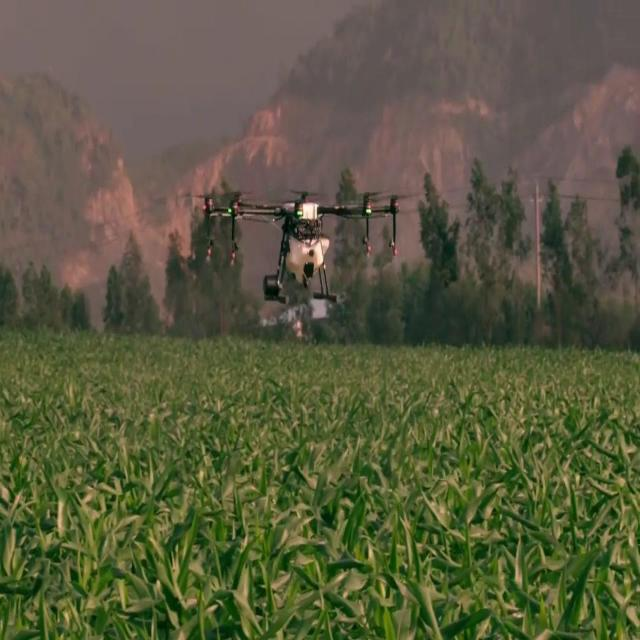UAV: (200, 184, 403, 308)
